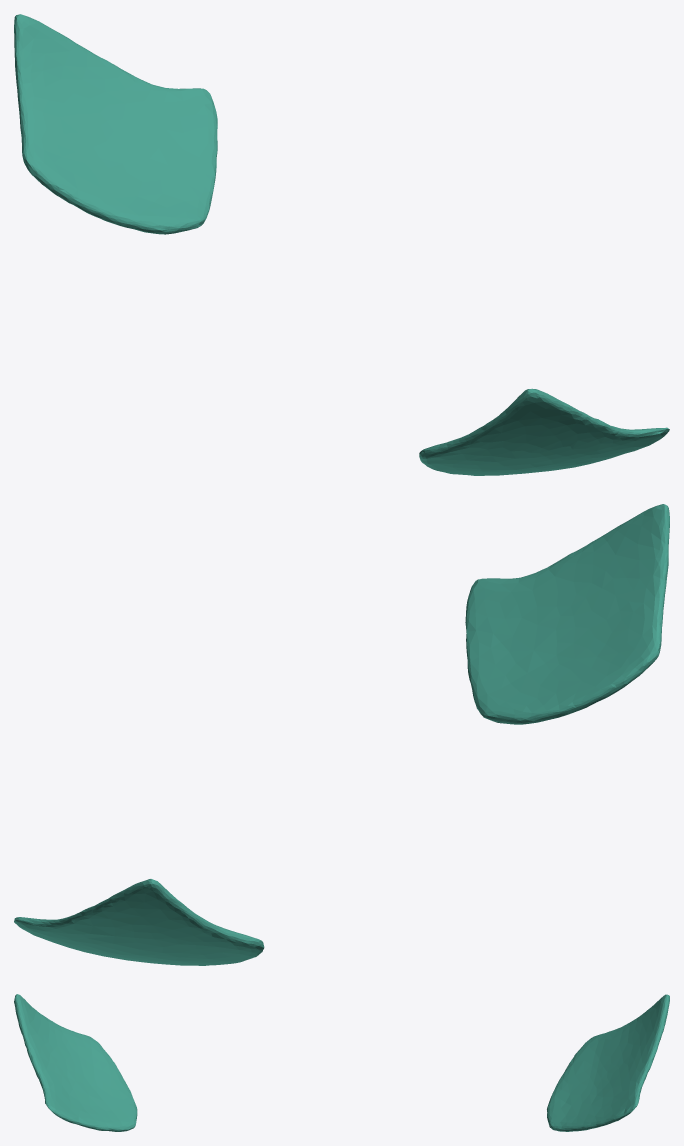
The picture shows the model from 3 angles, top to bottom: view 1: azimuth 30°, elevation 25°; view 2: azimuth 150°, elevation 25°; view 3: azimuth 270°, elevation 25°; orthographic projection. The views are drawn at different scales.
Parts seen in each view (by area): view 1: 981.obj; view 2: 981.obj; view 3: 981.obj.
Part boxes in pixels (left/top/right/bottom): 981.obj: left=14, top=14, right=669, bottom=475; 981.obj: left=14, top=504, right=669, bottom=965; 981.obj: left=14, top=994, right=669, bottom=1131.
Bounding box in the file's own units: 2145 × 1605 × 8831.
